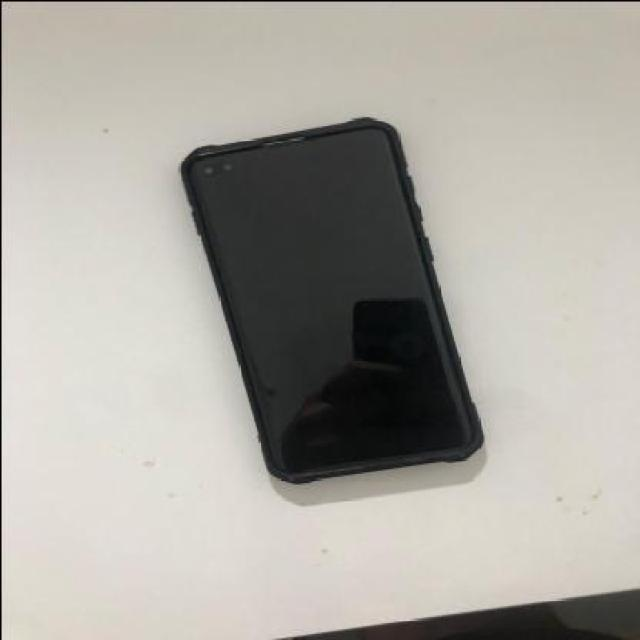phone: (178, 110, 478, 484)
